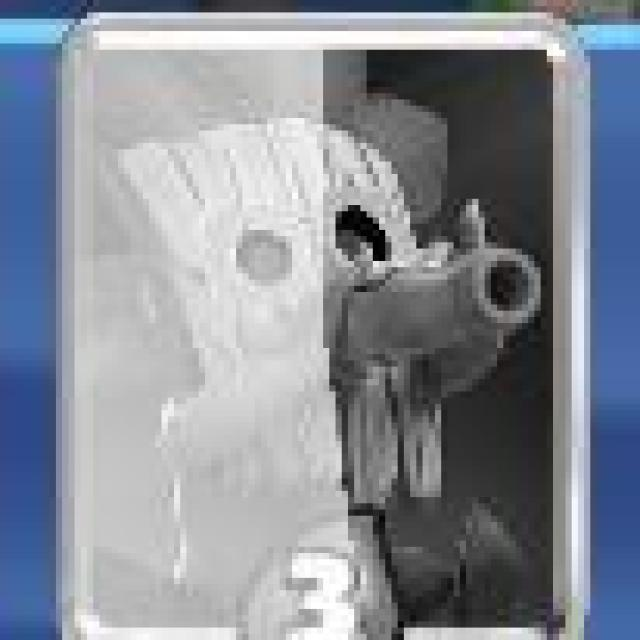Dart_Goblin: (55, 7, 593, 640)
